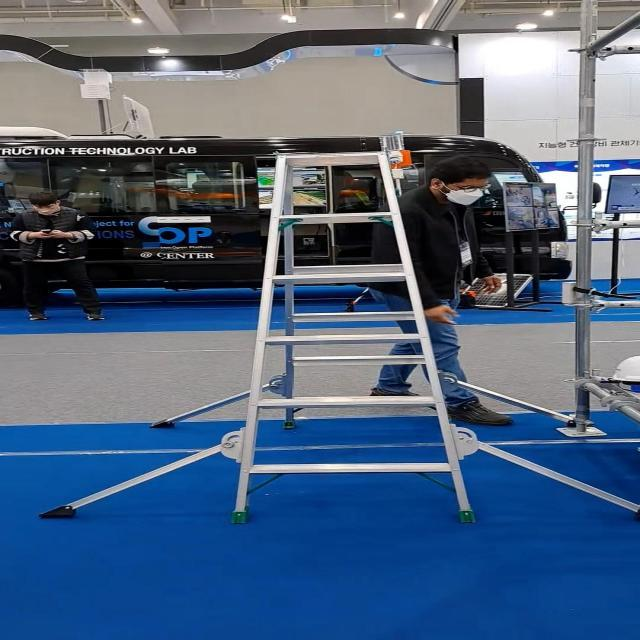boots: (34, 145, 640, 527)
vest: (367, 156, 517, 428), (5, 188, 110, 324)
